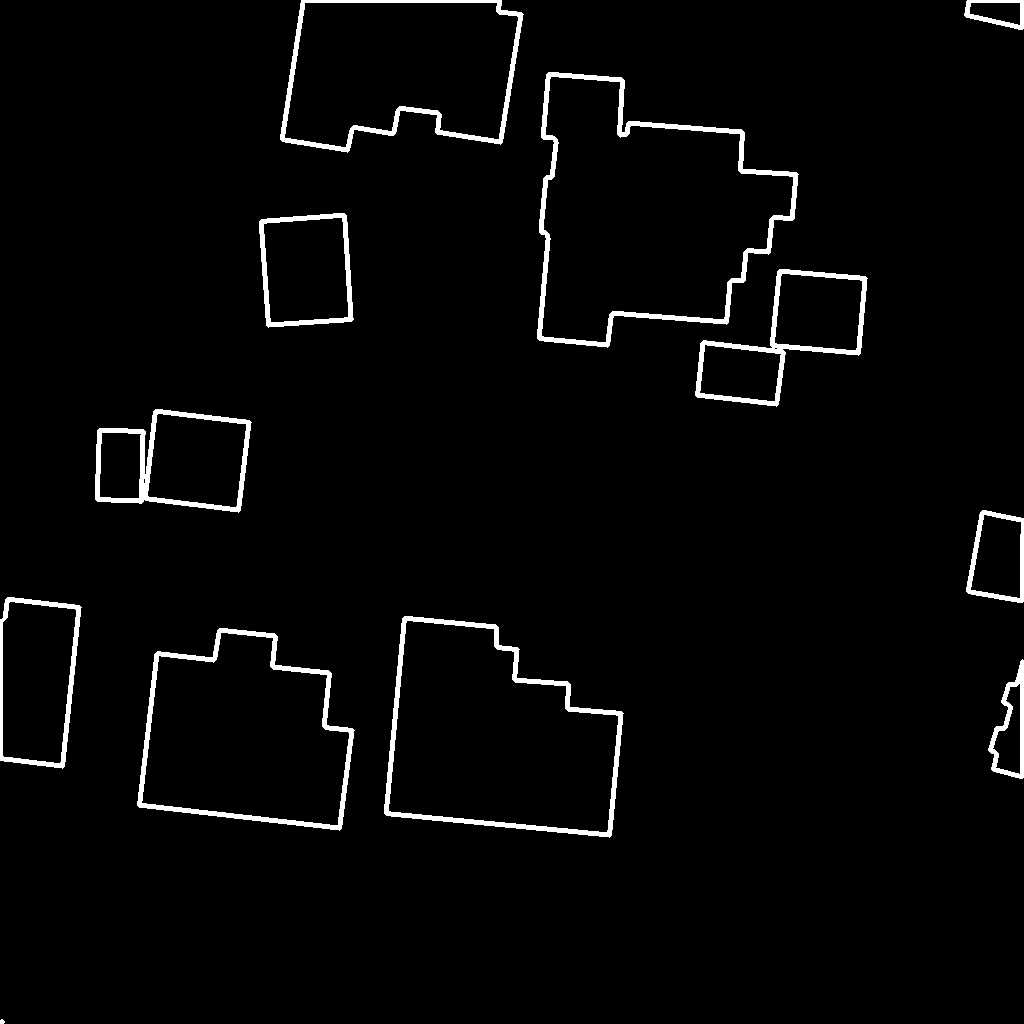building: (539, 74, 797, 346), (386, 618, 622, 836), (139, 630, 353, 829), (282, 0, 522, 151), (0, 599, 80, 767), (145, 411, 250, 511), (261, 215, 352, 326), (772, 271, 866, 354), (697, 342, 785, 405), (968, 512, 1024, 602), (990, 660, 1024, 778), (97, 430, 144, 502), (966, 0, 1024, 29), (0, 1021, 4, 1024)
